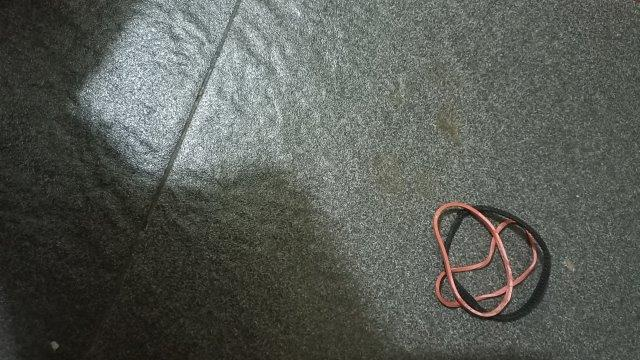karet: (433, 202, 552, 321)
